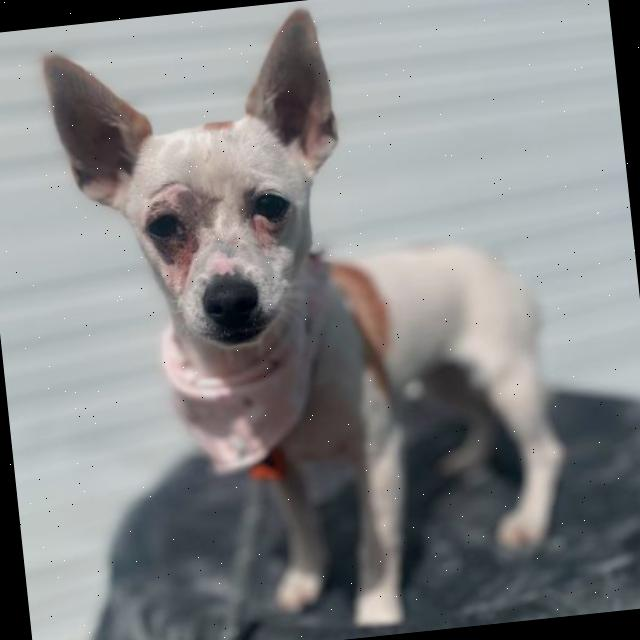chihuahua_dog: (24, 3, 386, 445)
